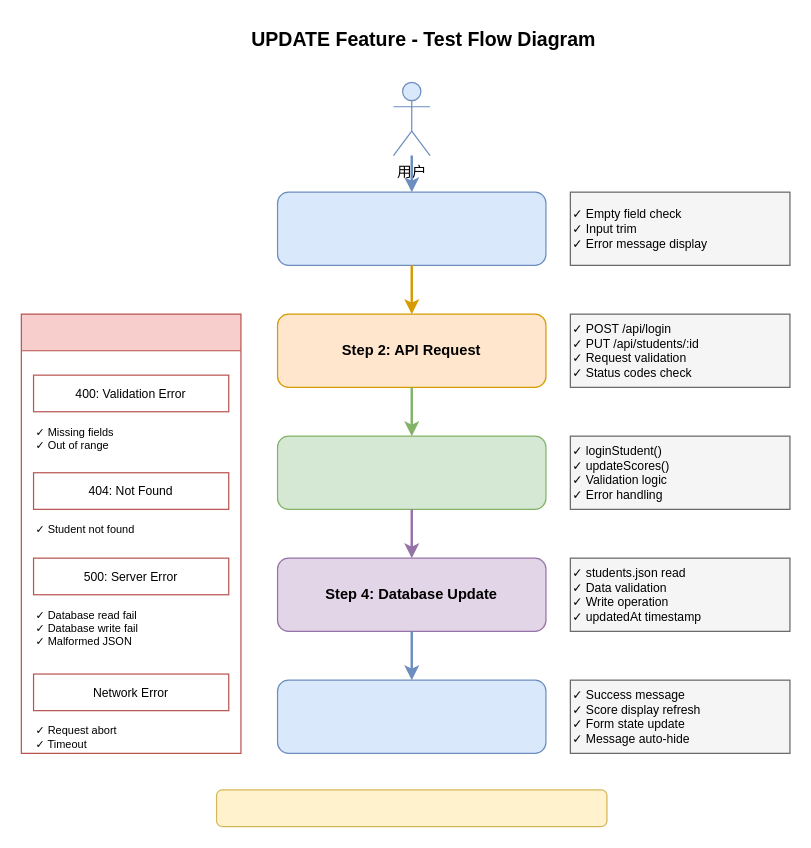
The diagram is 811 pixels wide and 848 high, and some of its shapes have lost their labels. The shapes that lost their labels are listed below. From the top down, each one's box as (x1, y1, x2, y2) in pixels, then its label:
(276, 191, 546, 265): Step 1: Frontend Validation
(276, 435, 546, 509): Step 3: Backend Logic
(20, 313, 241, 753): Error Handling Path
(276, 679, 546, 753): Step 5: UI Update
(215, 789, 607, 827): Test Coverage: 101 tests across all steps
